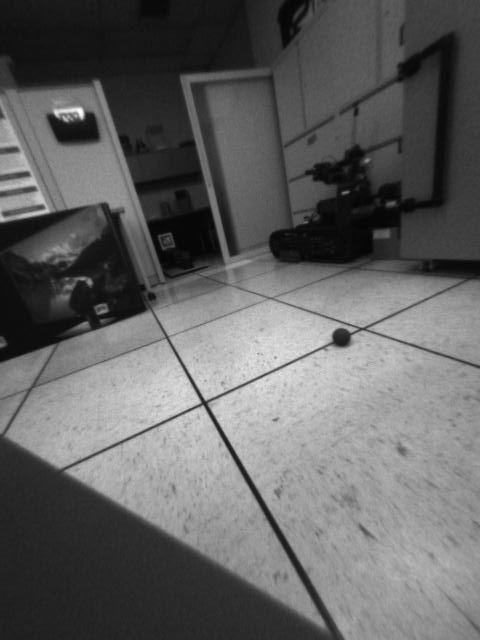dogtoy: (327, 322, 358, 348)
